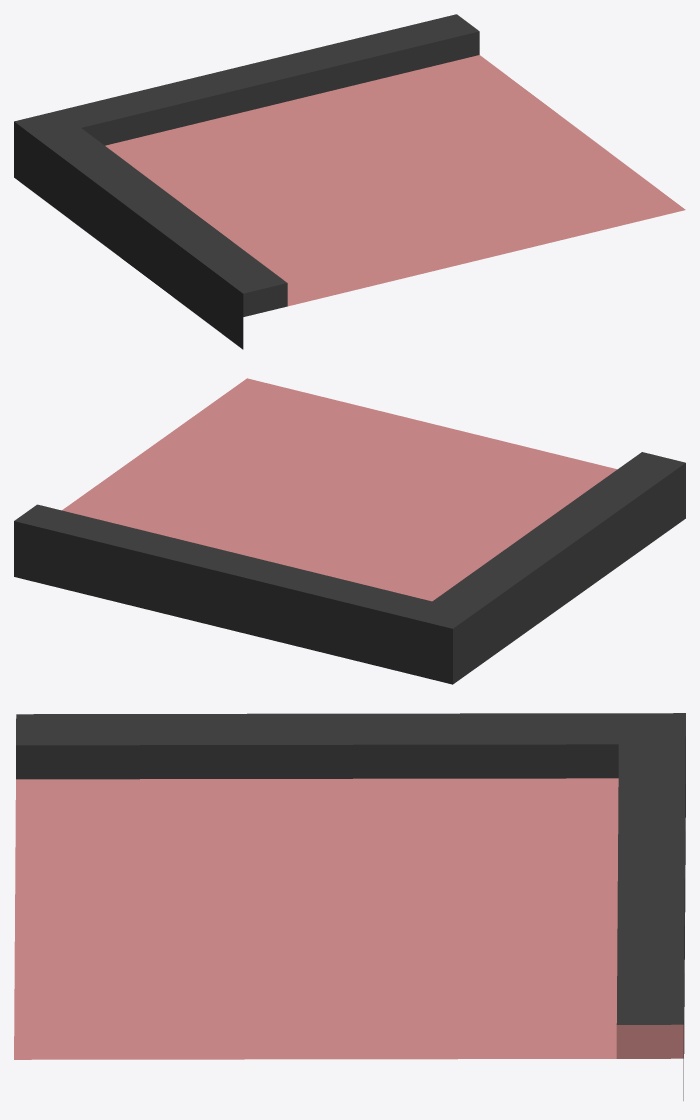
File: Väg_Sväng_Med_Ytter 1.fbx
3 renders of one model, top to bottom at view 1: azimuth 30°, elevation 25°; view 2: azimuth 150°, elevation 25°; view 3: azimuth 270°, elevation 25°, orthographic. The views are drawn at different scales.
Parts seen in each view (by area): view 1: Mesh_Turn; view 2: Mesh_Turn; view 3: Mesh_Turn.
Boxes of the visible parts, x1,y1,x2,y2 form: Mesh_Turn: [14, 14, 685, 349]; Mesh_Turn: [14, 378, 685, 684]; Mesh_Turn: [14, 713, 685, 1100].
Bounding box in the file's own units: 31.22 × 3.9 × 28.28.
